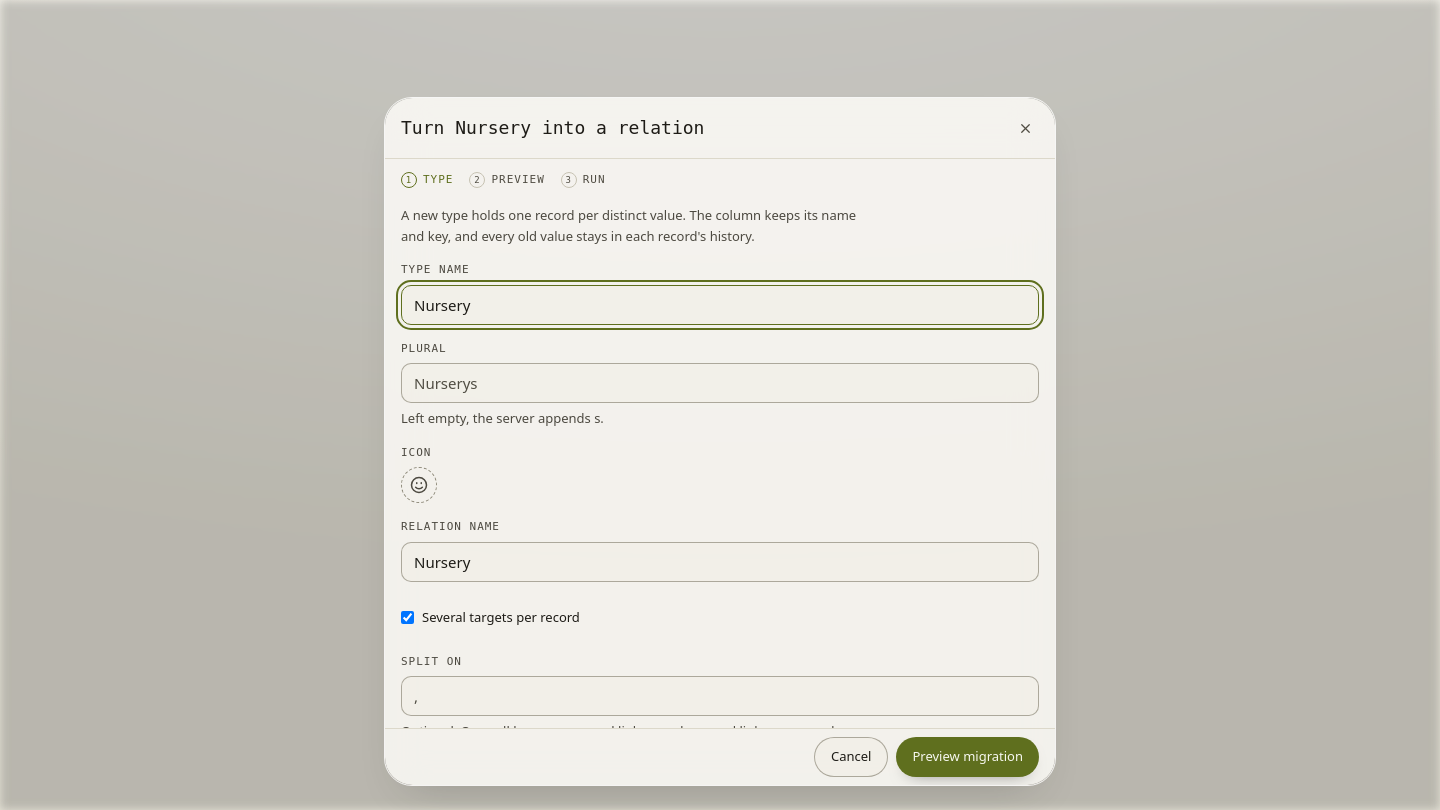
PromoteColumnDialog › limits the sample to twenty values and names the rest
The width and height of the screenshot is (1440, 810).
Click the button "Preview migration": [968, 757] box [896, 737, 1039, 777]
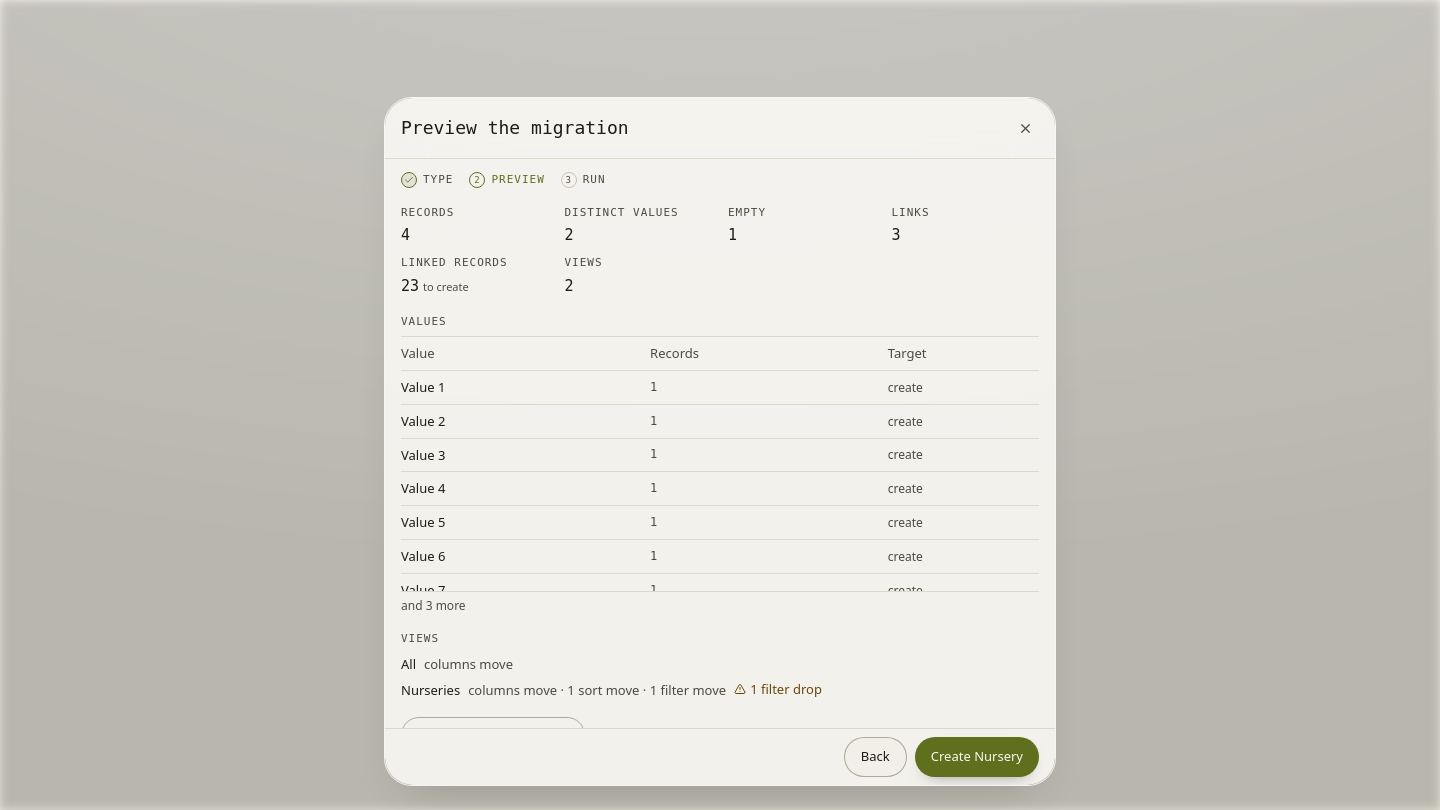
Check: the text "and 3 more" is shown, box [401, 597, 466, 614]
